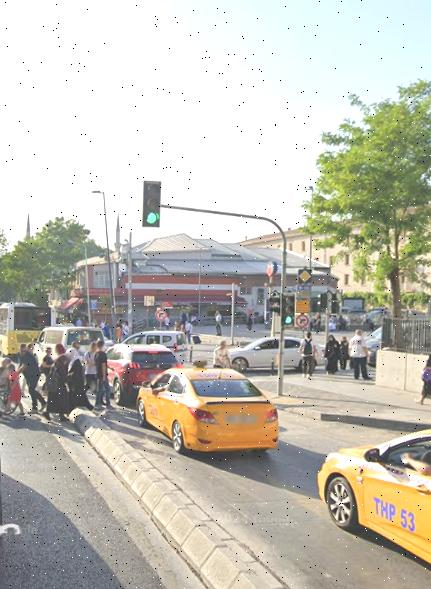greenlight: (144, 179, 161, 227), (283, 294, 296, 322), (296, 315, 310, 326)
